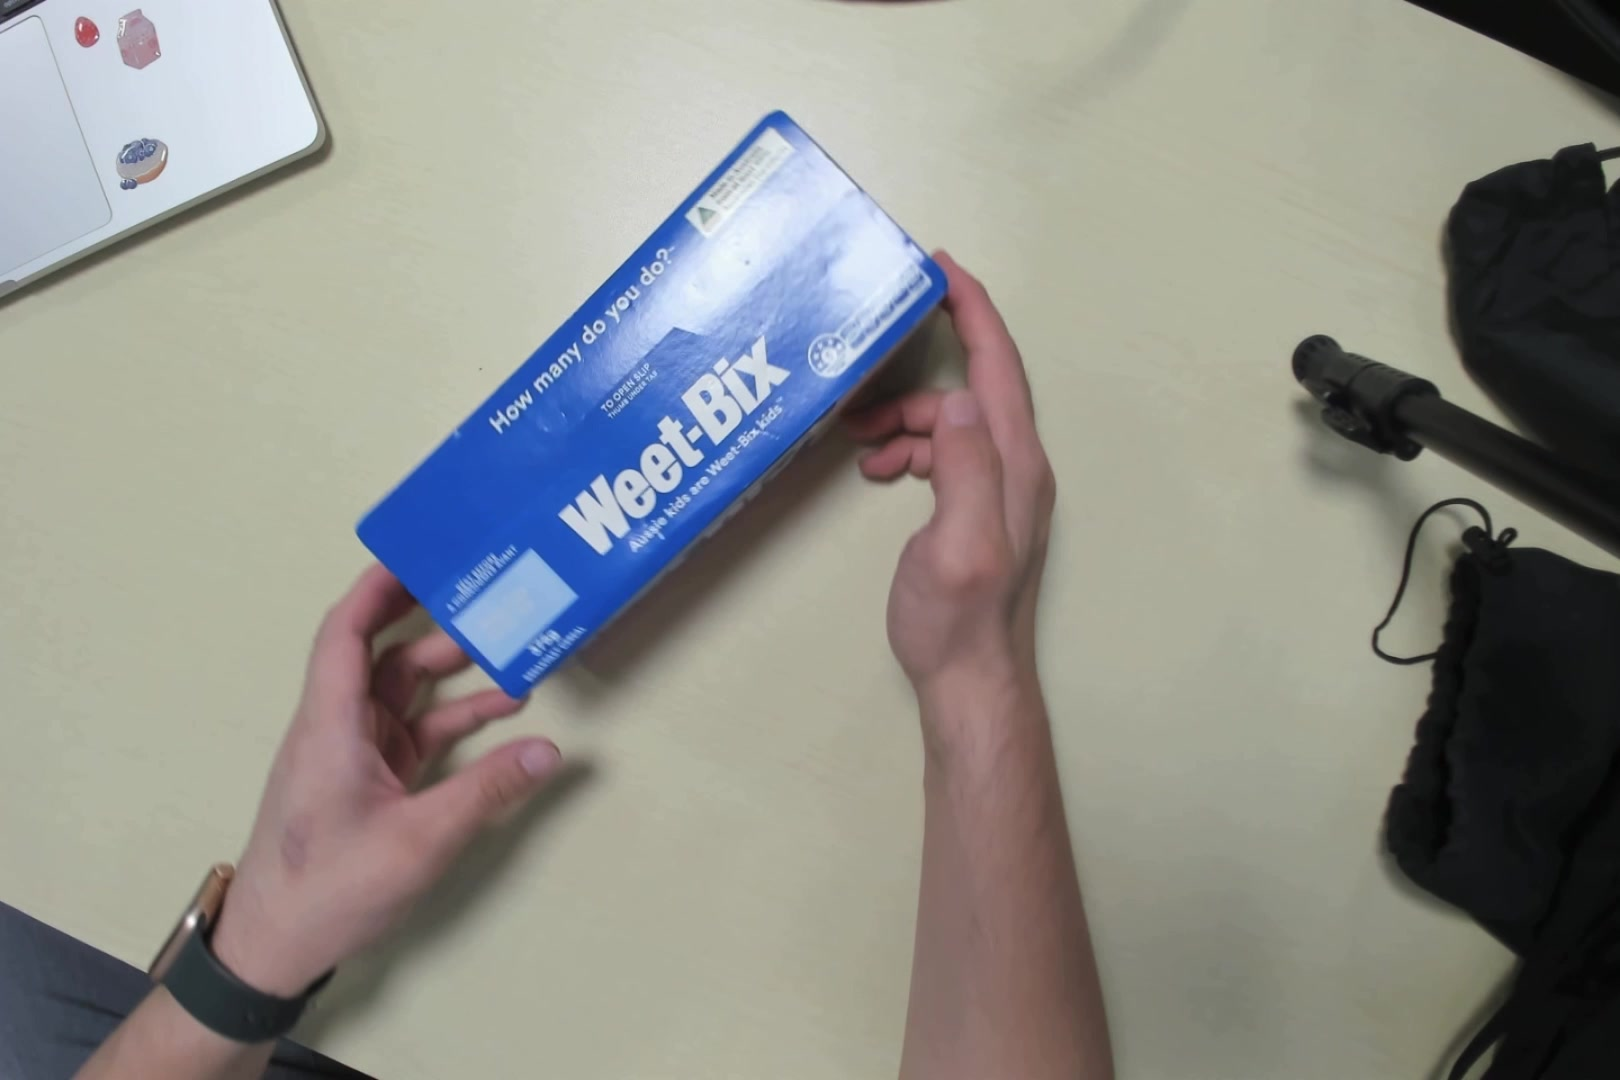BreakfastCereals_300-399g_NonHalal_NonHealthy: (365, 124, 946, 675)
